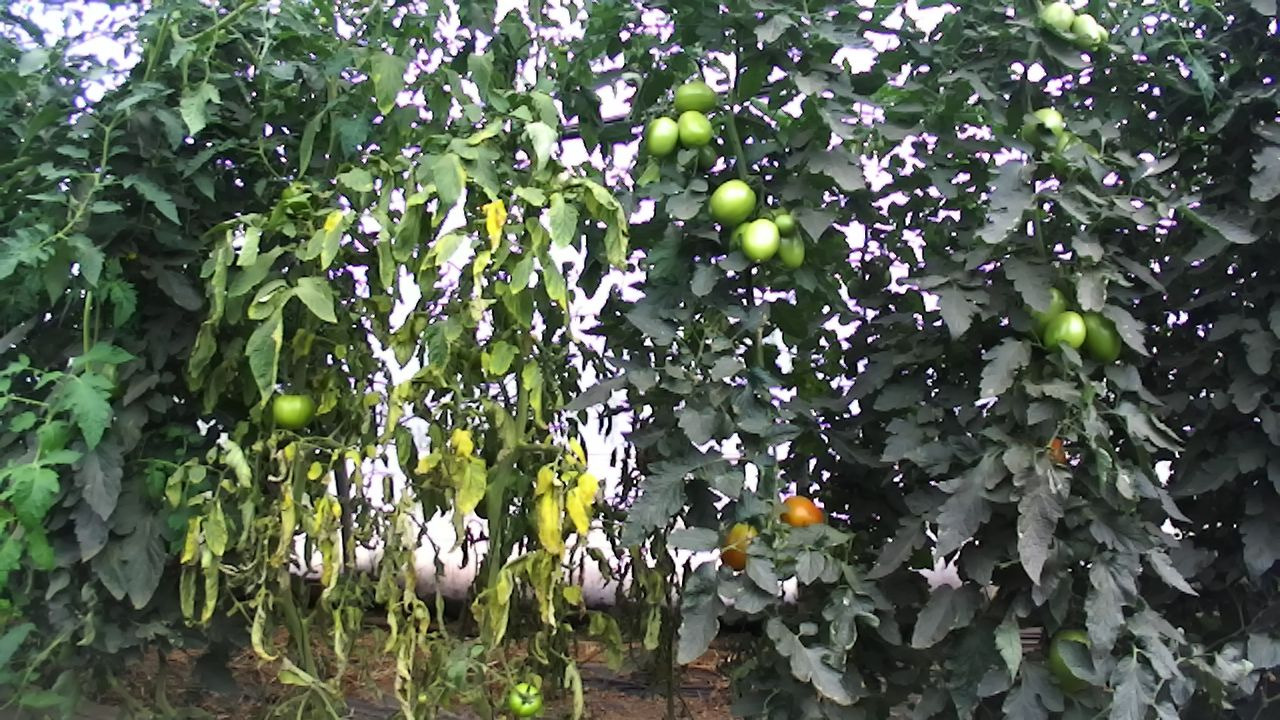tomato: (1044, 625, 1097, 693), (1077, 304, 1125, 367), (707, 177, 757, 227), (1040, 308, 1089, 352), (739, 217, 781, 267), (270, 392, 317, 430), (672, 79, 718, 114), (645, 115, 679, 160), (677, 110, 715, 150), (780, 494, 826, 527), (507, 681, 543, 717), (776, 229, 806, 271), (1040, 2, 1074, 33), (1075, 14, 1103, 46), (773, 212, 797, 238)
